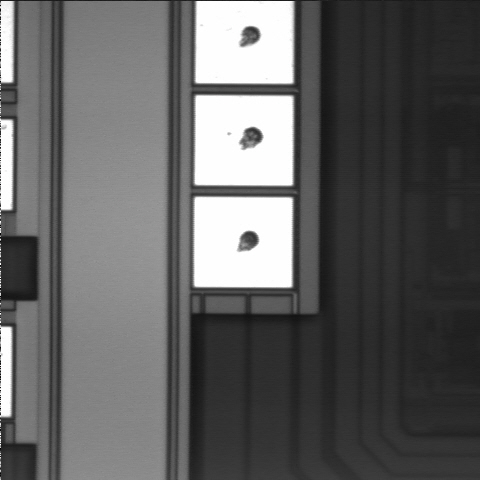pad: (195, 95, 293, 186), (194, 197, 292, 287)
